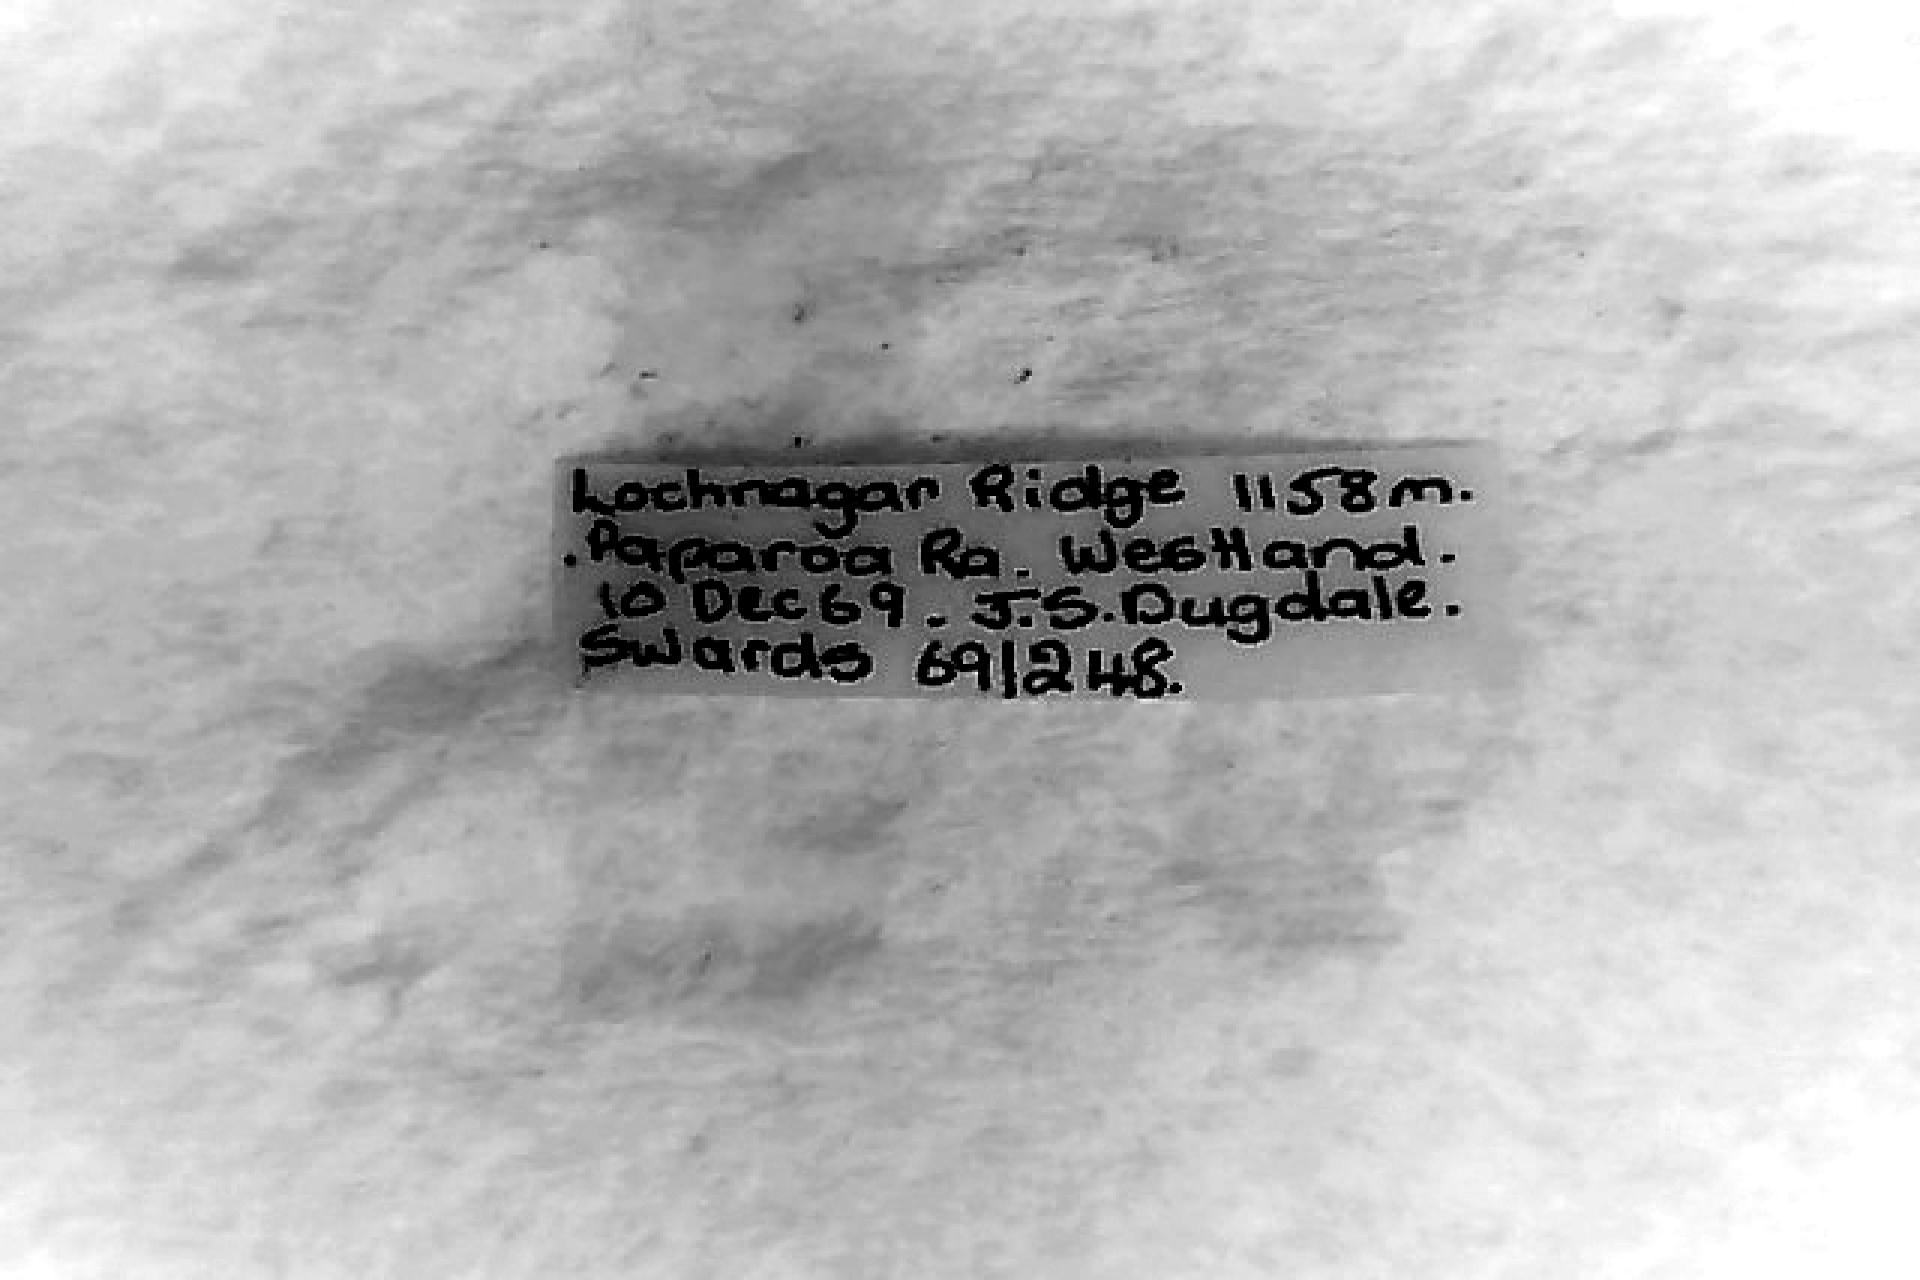hand_label: (559, 443, 1504, 699)
